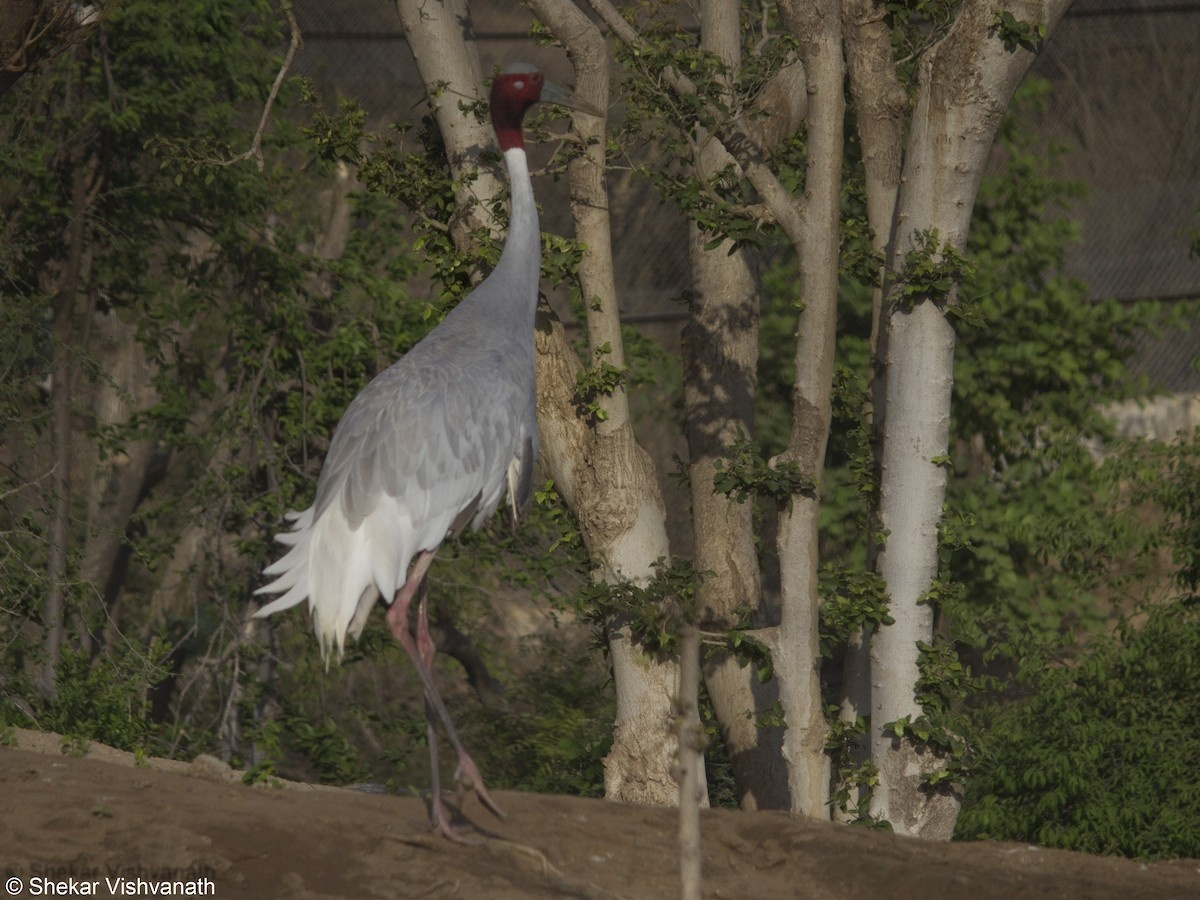crane: (303, 58, 615, 848)
